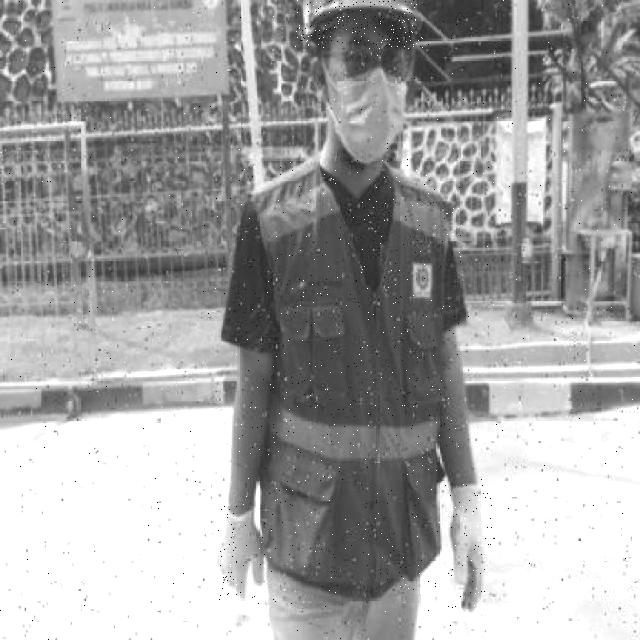helmet: (295, 0, 423, 49)
vest: (238, 158, 462, 594)
